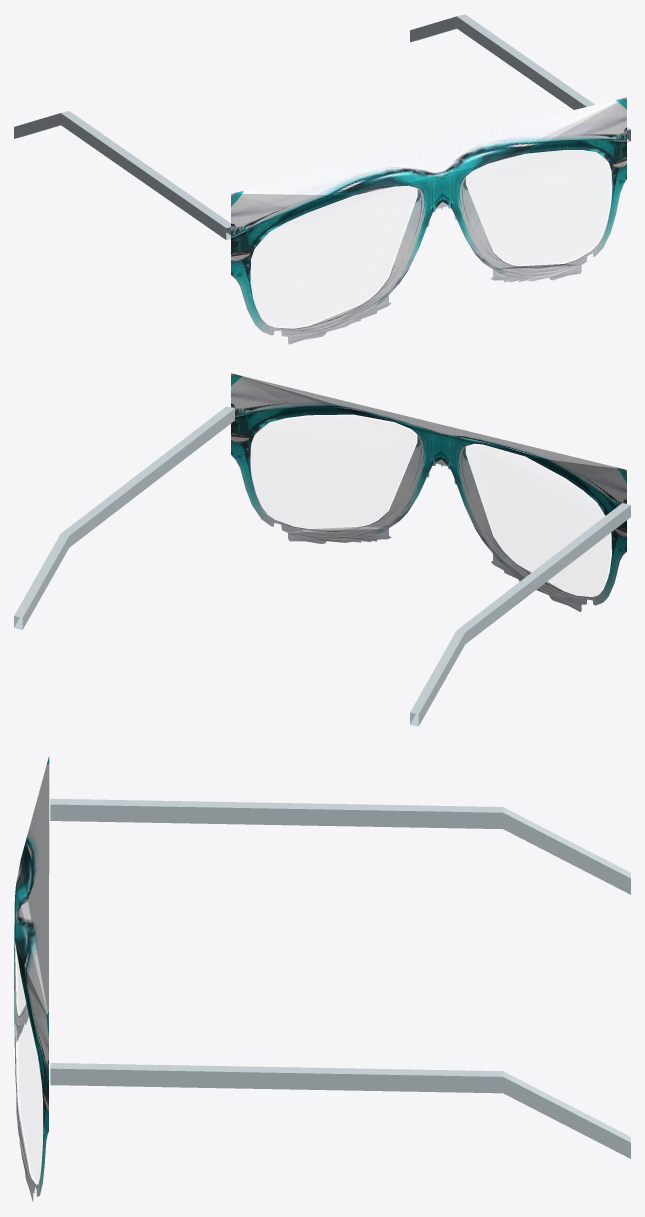
The model's file is gothamstyle-30_green.glb.
3 views of the same model, one above another, from view 1: azimuth 30°, elevation 25°; view 2: azimuth 150°, elevation 25°; view 3: azimuth 270°, elevation 25° (orthographic). The views are drawn at different scales.
Parts seen in each view (by area): view 1: frame_front, temple_viewer_left, temple_viewer_right; view 2: frame_front, temple_viewer_left, temple_viewer_right; view 3: temple_viewer_right, temple_viewer_left, frame_front.
Part boxes in pixels (box(x1,y1,x2,y2)): frame_front: box(231, 97, 626, 344); temple_viewer_left: box(14, 111, 230, 240); temple_viewer_right: box(410, 14, 630, 142); frame_front: box(231, 373, 626, 611); temple_viewer_left: box(410, 503, 630, 726); temple_viewer_right: box(14, 406, 234, 629); temple_viewer_right: box(50, 1063, 630, 1158); temple_viewer_left: box(50, 798, 630, 894); frame_front: box(14, 756, 49, 1201).
Size of the model in its own units: 0.1408 by 0.053 by 0.136.
3 materials, 2 textured.
